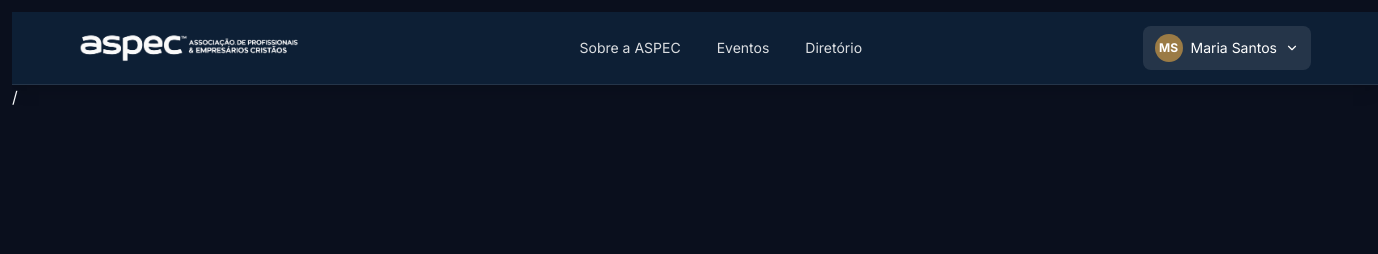
Menu de conta do cabeçalho › o membro ativo vê o bloco de perfil com os cartões de oração e sem dashboard
Click the button "MS Maria Santos" at (1227, 48), box [1142, 26, 1311, 70]
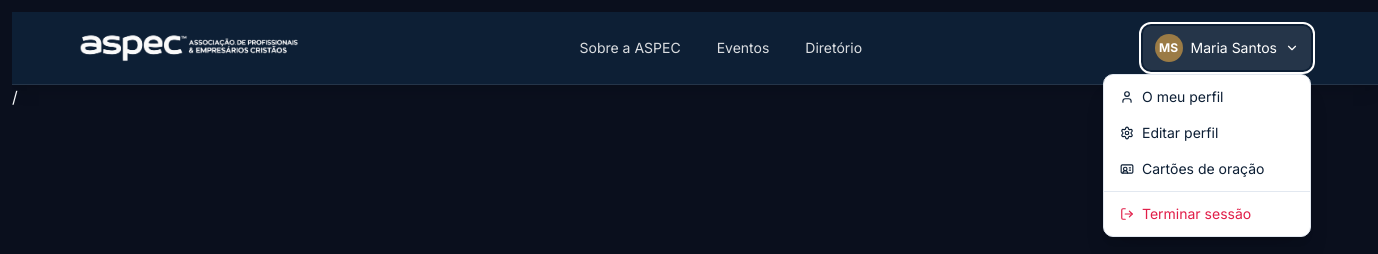
Now the link "O meu perfil" is shown, box [1120, 88, 1224, 105]
Now the link "Editar perfil" is shown, box [1120, 124, 1218, 141]
Now the link "Cartões de oração" is shown, box [1120, 160, 1264, 177]
